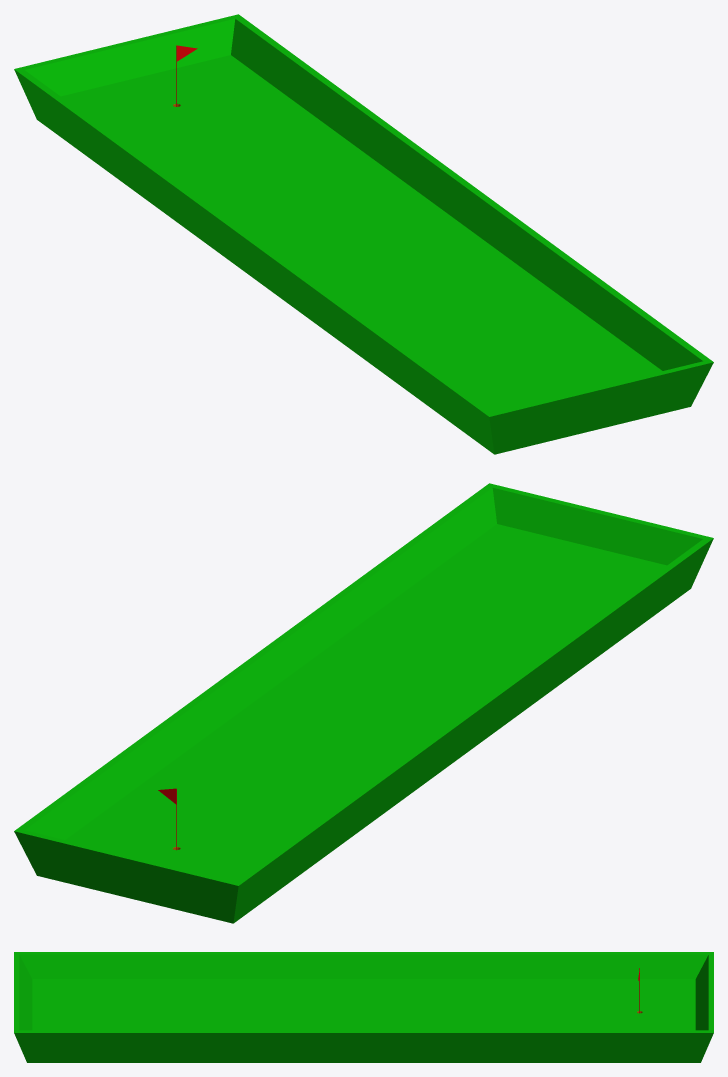
File: level_1.glb
3 renders of one model, top to bottom at view 1: azimuth 30°, elevation 25°; view 2: azimuth 150°, elevation 25°; view 3: azimuth 270°, elevation 25°, orthographic. The views are drawn at different scales.
Visible parts, largest first — view 1: green; view 2: green; view 3: green.
Part boxes in pixels (x1,y1,x2,y2): green: (14,14,713,454); green: (14,483,713,923); green: (14,952,713,1062).
Bounding box in the file's own units: 3.19 × 1.09 × 11.69.
